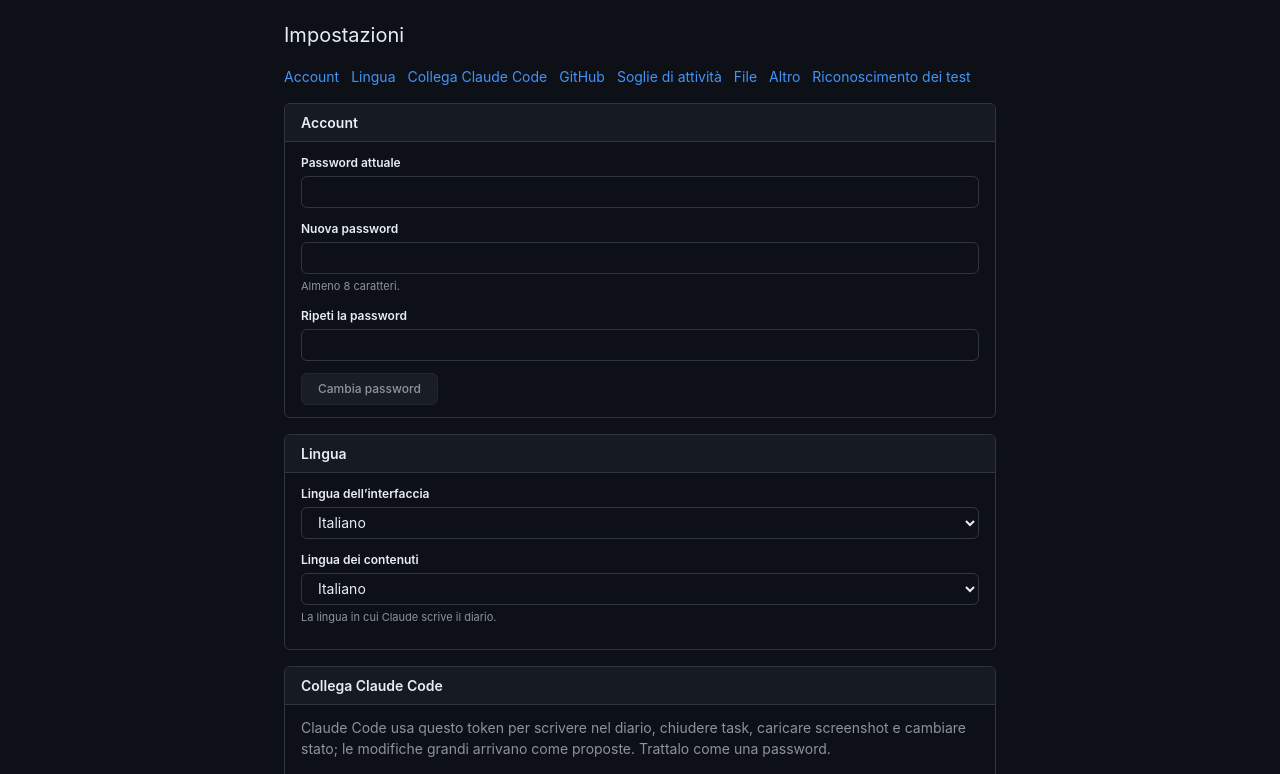
Test case: verifyB2 criterion 2: change password › a wrong current password shows the fixed text and keeps the user signed in
Type "sbagliata" into the password field labelled "Password attuale" at (640, 192), box x1=301 y1=176 x2=979 y2=208
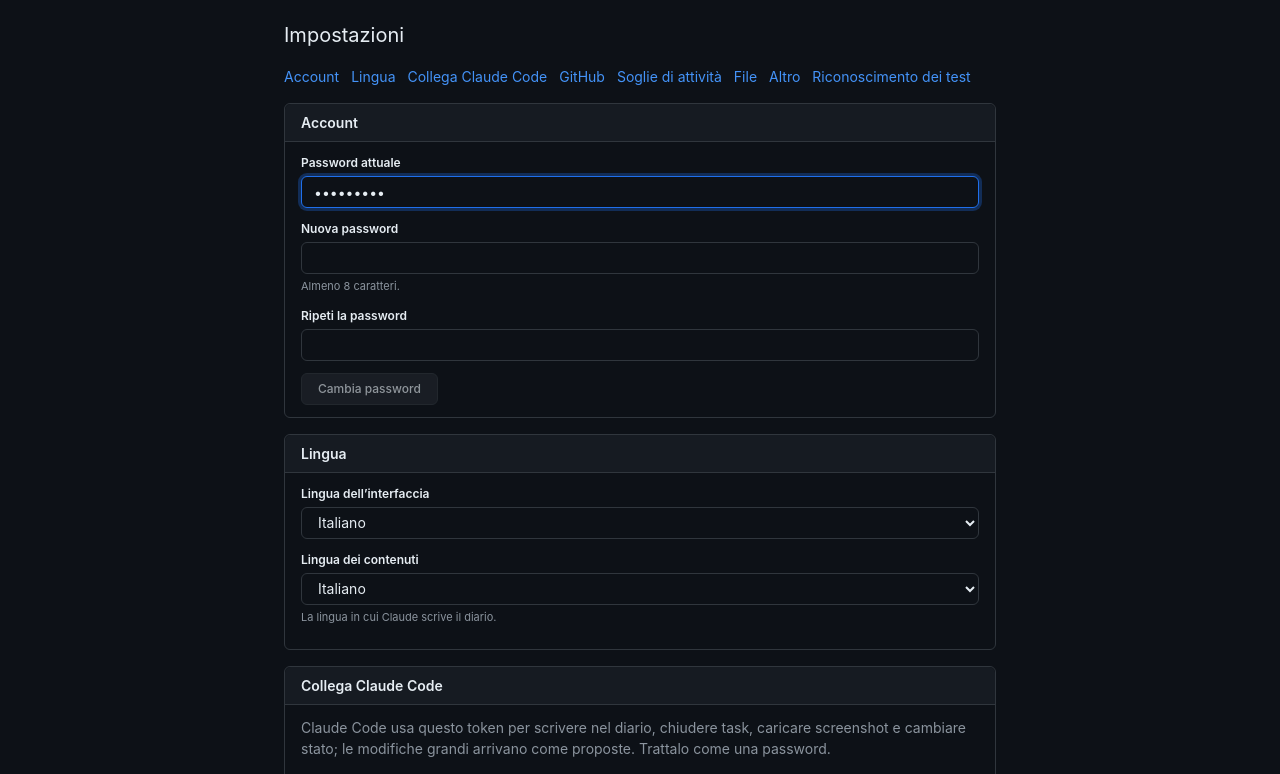
Type "nuovapassword1" into the password field labelled "Nuova password" at (640, 258), box x1=301 y1=242 x2=979 y2=274
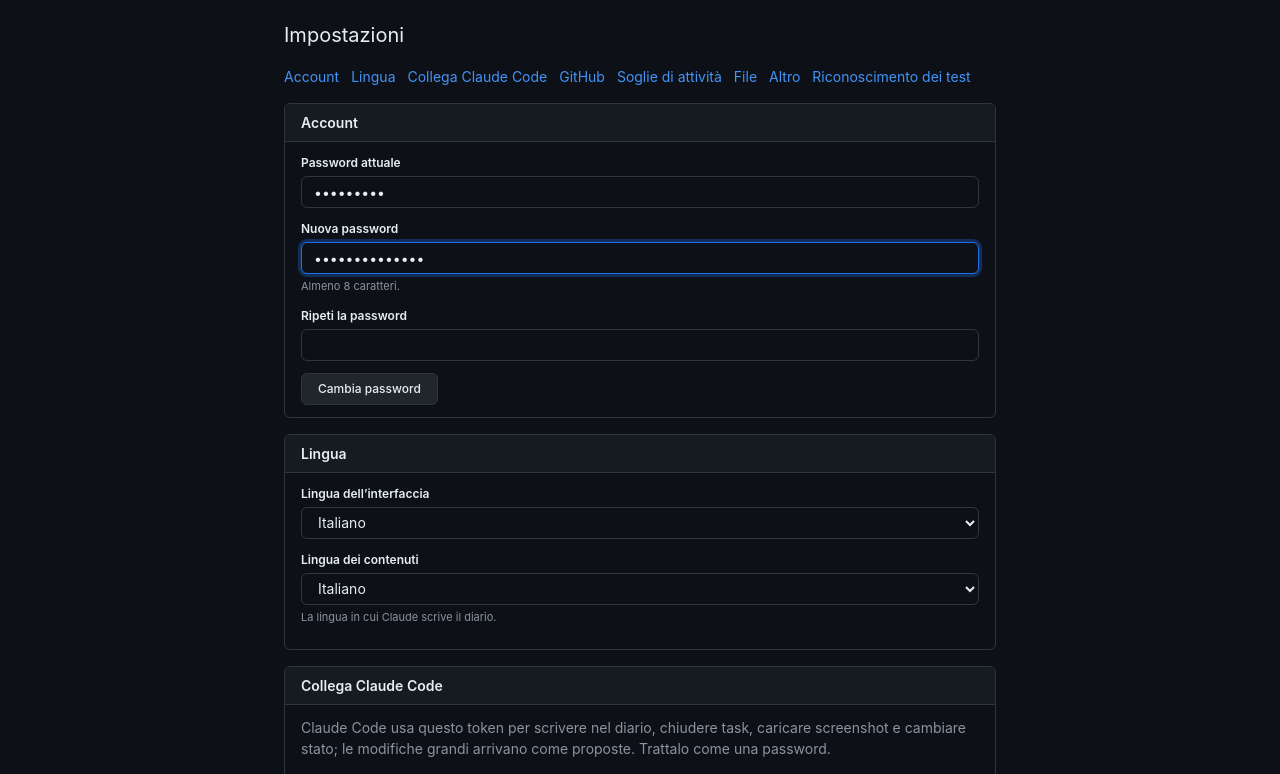
Type "nuovapassword1" into the password field labelled "Ripeti la password" at (640, 344), box x1=301 y1=328 x2=979 y2=360
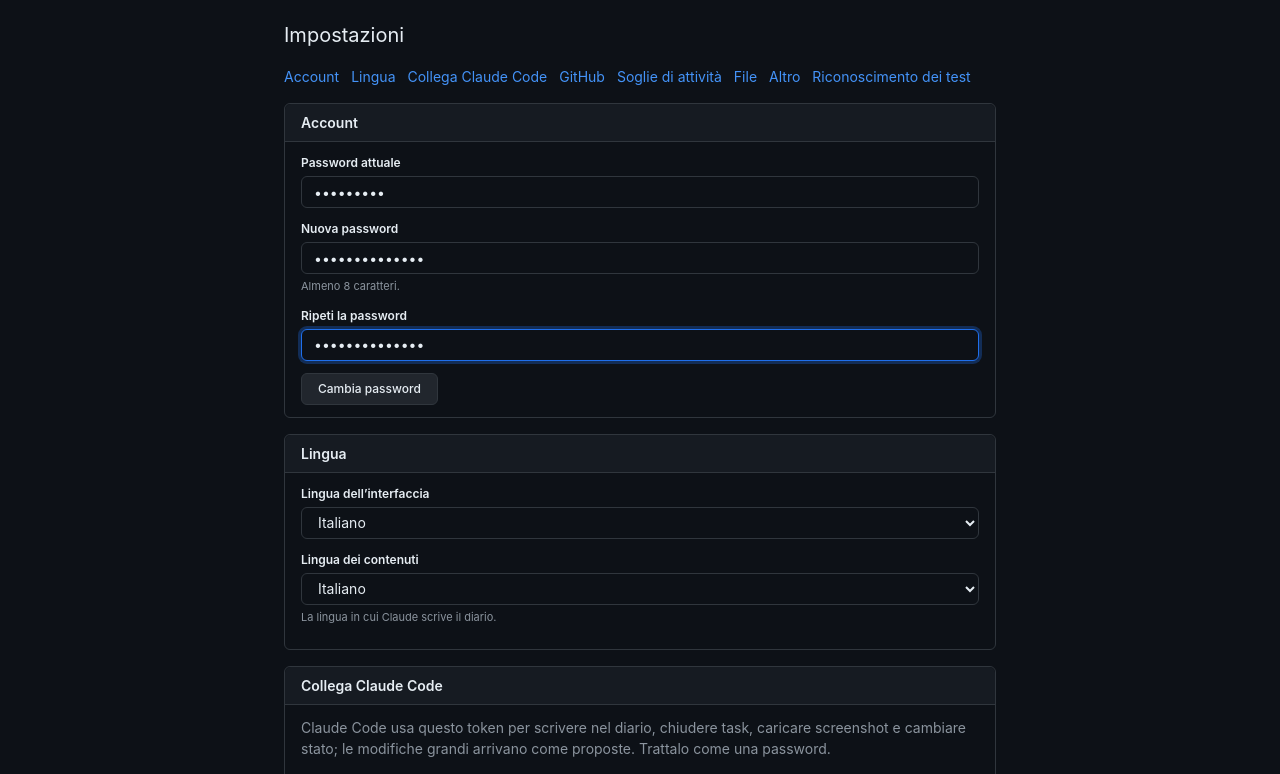
Click the button "Cambia password" at (369, 388), box x1=301 y1=372 x2=438 y2=404
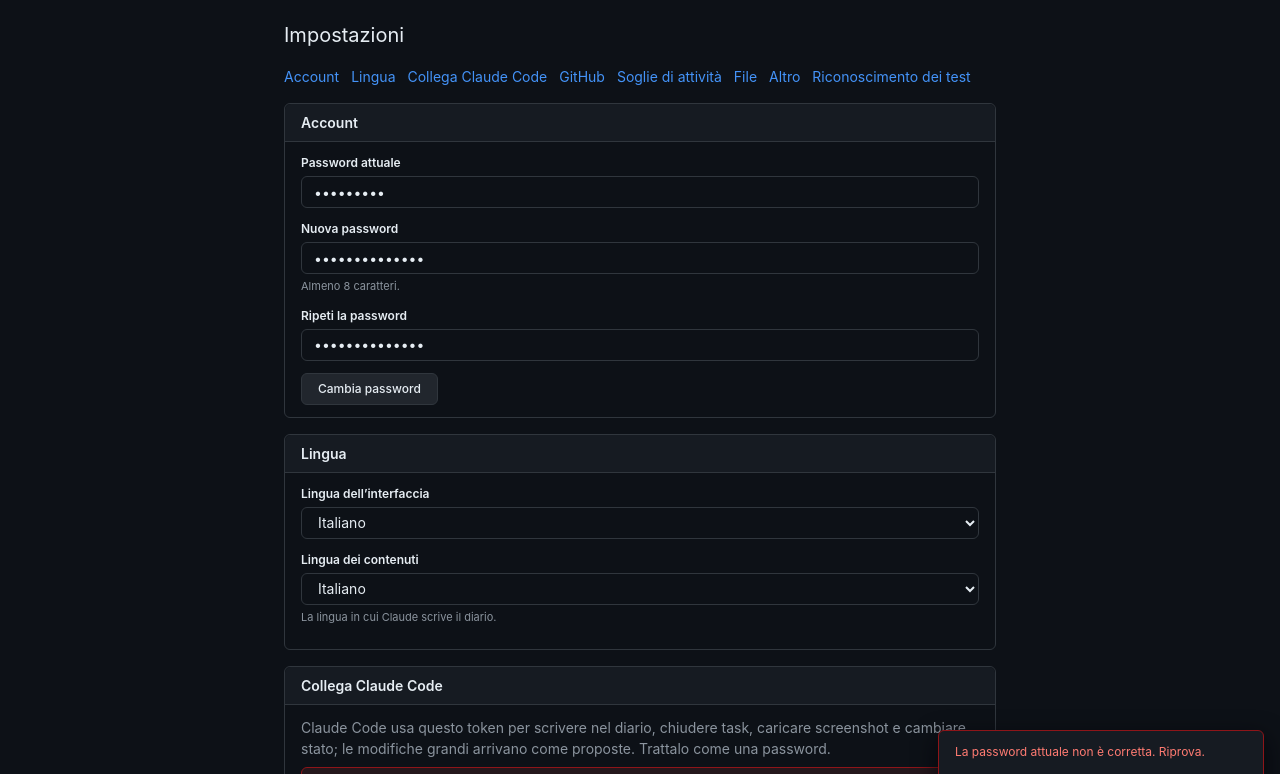
Now the text "La password attuale non è corretta. Riprova." is shown, box x1=955 y1=743 x2=1205 y2=761
